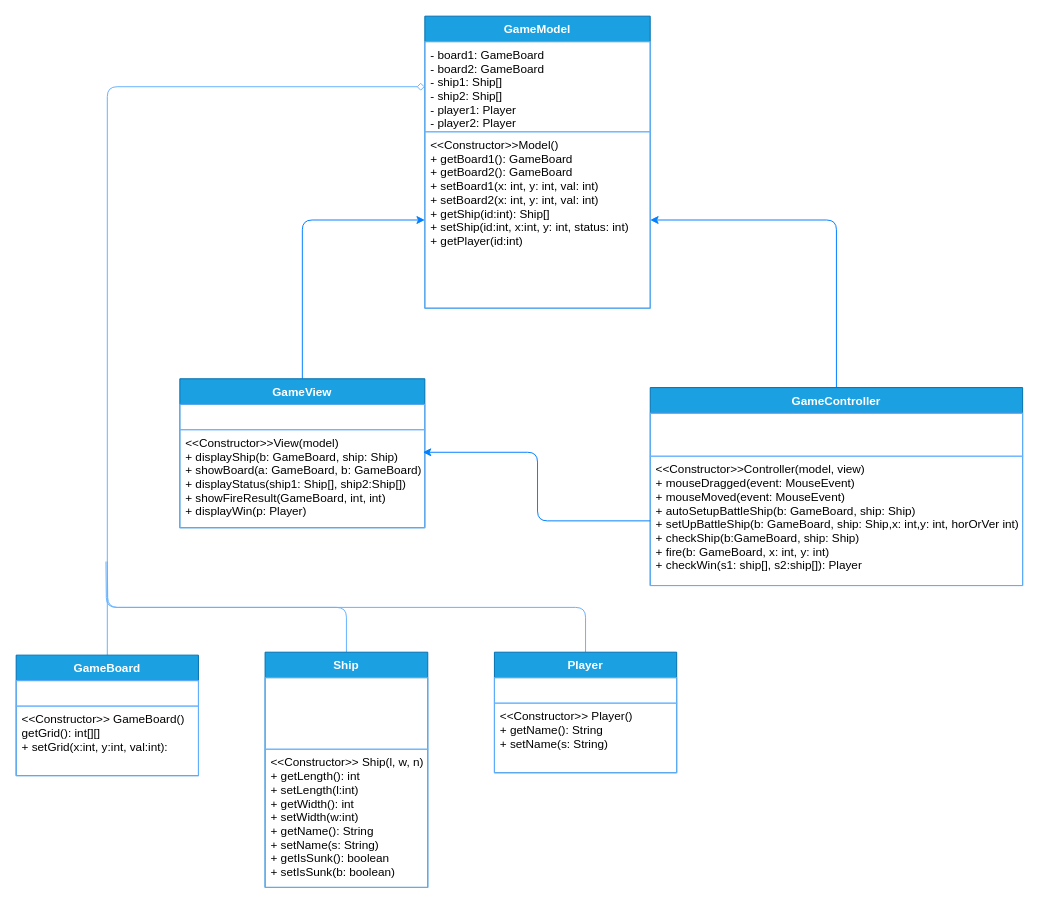
Image size: 1039x904. Some labels were removed from this diagram. Each missing label, with the centre of its shape:
"- grid: int[][]" goes at (x=106, y=693).
"- length: int - width: int - name: String - isSunk: boolean" goes at (x=346, y=713).
"- model: GameModel" goes at (x=302, y=416).
"- model: GameModel - view: GameView" goes at (x=836, y=434).
"- name: String" goes at (x=585, y=690).
